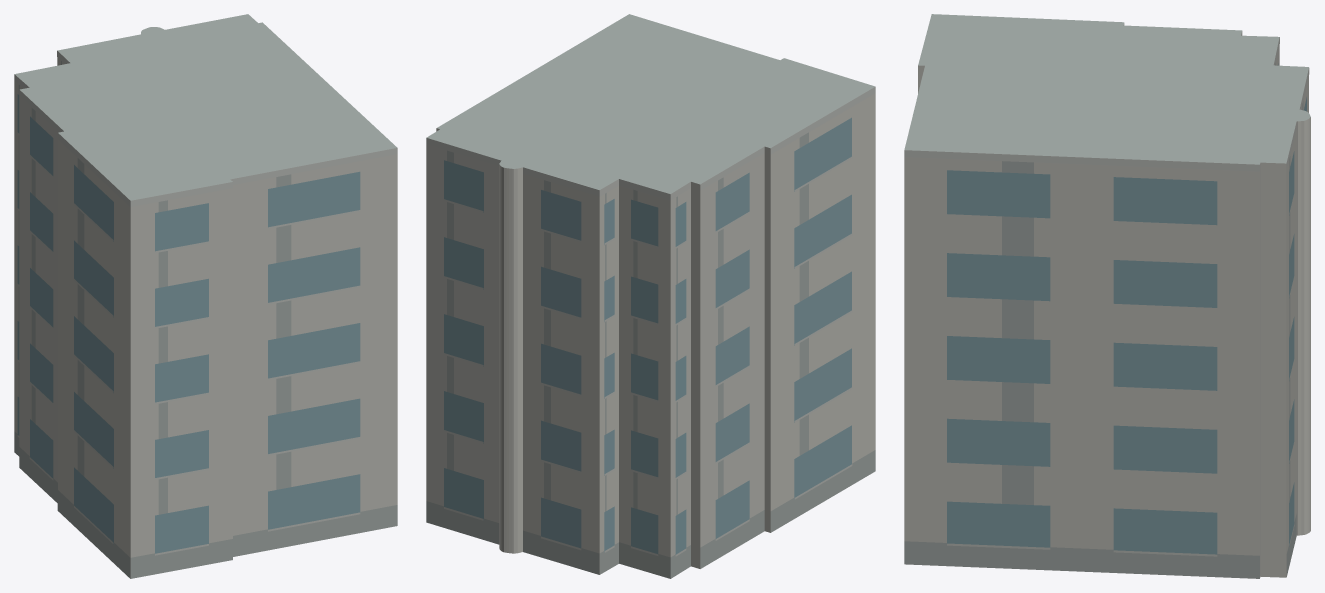
The model's file is survey-upis-33008341.glb.
3 views of the same model, side by side, from view 1: azimuth 30°, elevation 25°; view 2: azimuth 150°, elevation 25°; view 3: azimuth 270°, elevation 25° (orthographic). The views are drawn at different scales.
Parts seen in each view (by area): view 1: survey-upis-33008341.tmp; view 2: survey-upis-33008341.tmp; view 3: survey-upis-33008341.tmp.
Boxes of the visible parts, box(x1,y1,x2,y2) form: survey-upis-33008341.tmp: box(14, 14, 397, 578); survey-upis-33008341.tmp: box(426, 14, 875, 578); survey-upis-33008341.tmp: box(904, 14, 1310, 578).
Size of the model in its own units: 11.25 by 14.41 by 12.82.
